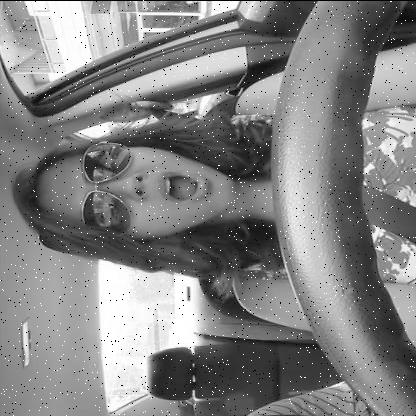seatbelt: (1, 96, 416, 275)
